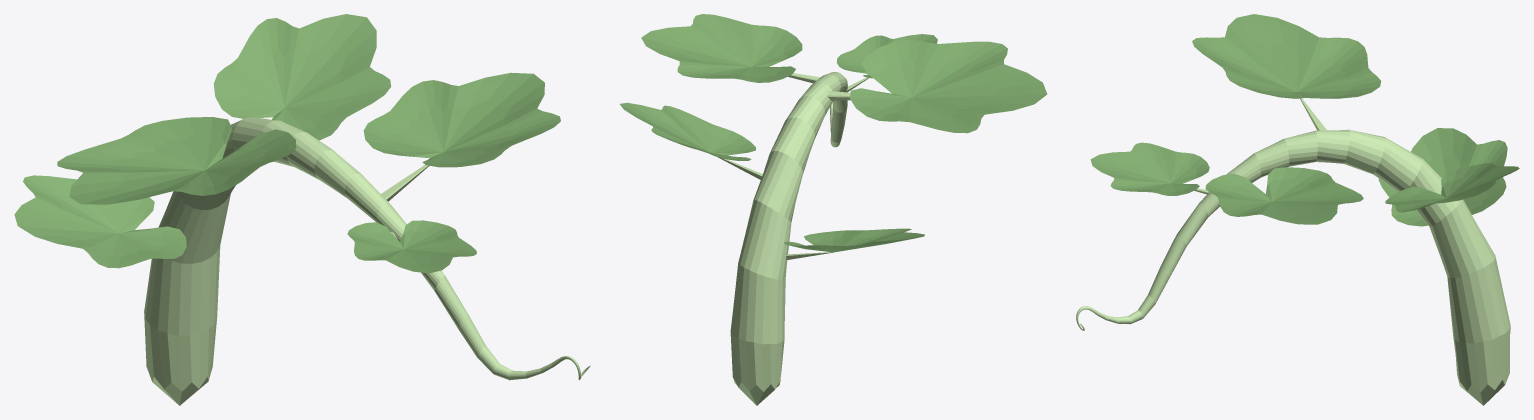
Rendered from 003_pumpkinstem1.fbx.
3 views of the same model, side by side, from view 1: azimuth 30°, elevation 25°; view 2: azimuth 150°, elevation 25°; view 3: azimuth 270°, elevation 25° (orthographic). The views are drawn at different scales.
Parts seen in each view (by area): view 1: stem1; view 2: stem1; view 3: stem1.
Part boxes in pixels (box(x1,y1,x2,y2)): stem1: box(14, 14, 590, 405); stem1: box(620, 14, 1047, 405); stem1: box(1076, 14, 1519, 405).
Bounding box in the file's own units: 396 × 291 × 379.
Materials: 1 (1 with a texture image).
